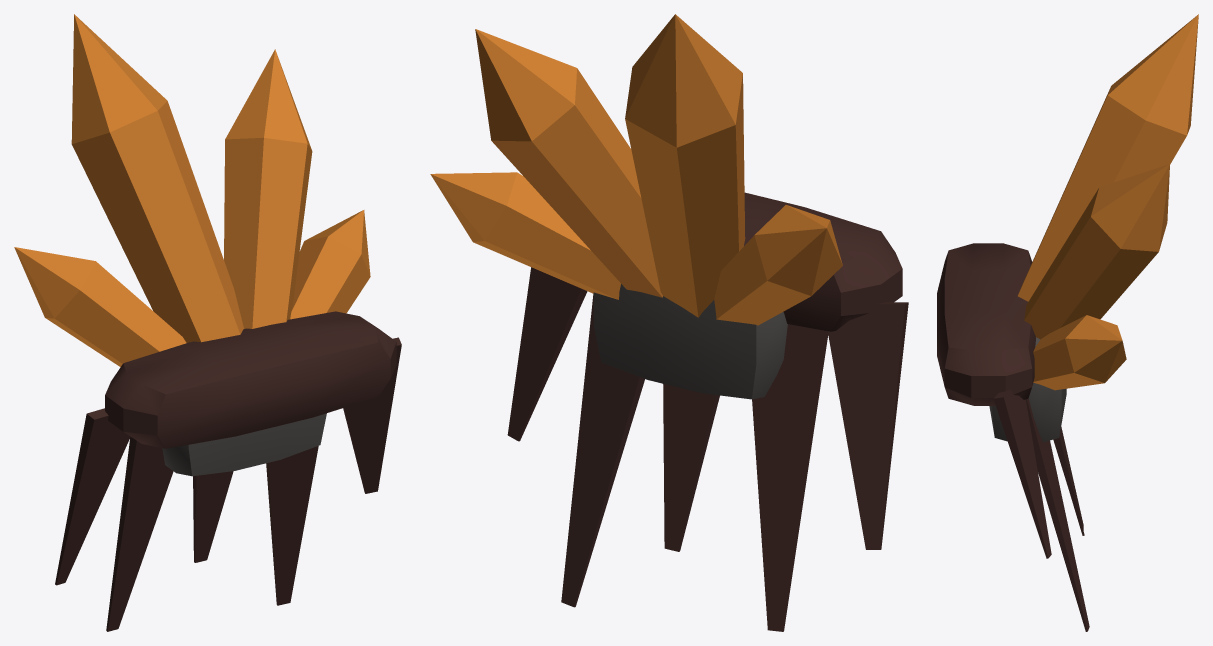
Rendered from boss_back.fbx.
3 views of the same model, side by side, from view 1: azimuth 30°, elevation 25°; view 2: azimuth 150°, elevation 25°; view 3: azimuth 270°, elevation 25° (orthographic). The views are drawn at different scales.
Visible parts, largest first — view 1: boss_back; view 2: boss_back; view 3: boss_back.
Boxes of the visible parts, x1,y1,x2,y2 form: boss_back: (14, 14, 401, 631); boss_back: (430, 14, 908, 631); boss_back: (937, 14, 1198, 631).
Size of the model in its own units: 1.17 by 1.88 by 0.814.
